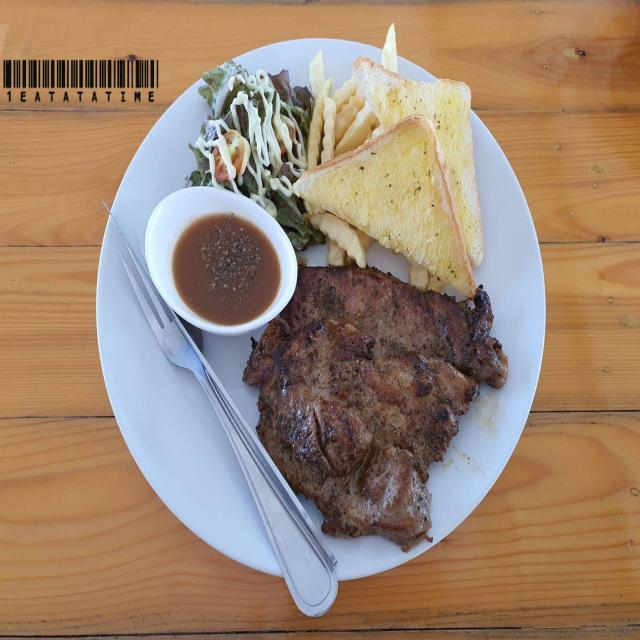carb: (289, 118, 480, 300), (354, 60, 485, 273), (308, 48, 380, 176), (305, 197, 380, 269)
meat: (244, 267, 507, 553)
vegetable: (185, 65, 323, 251)
